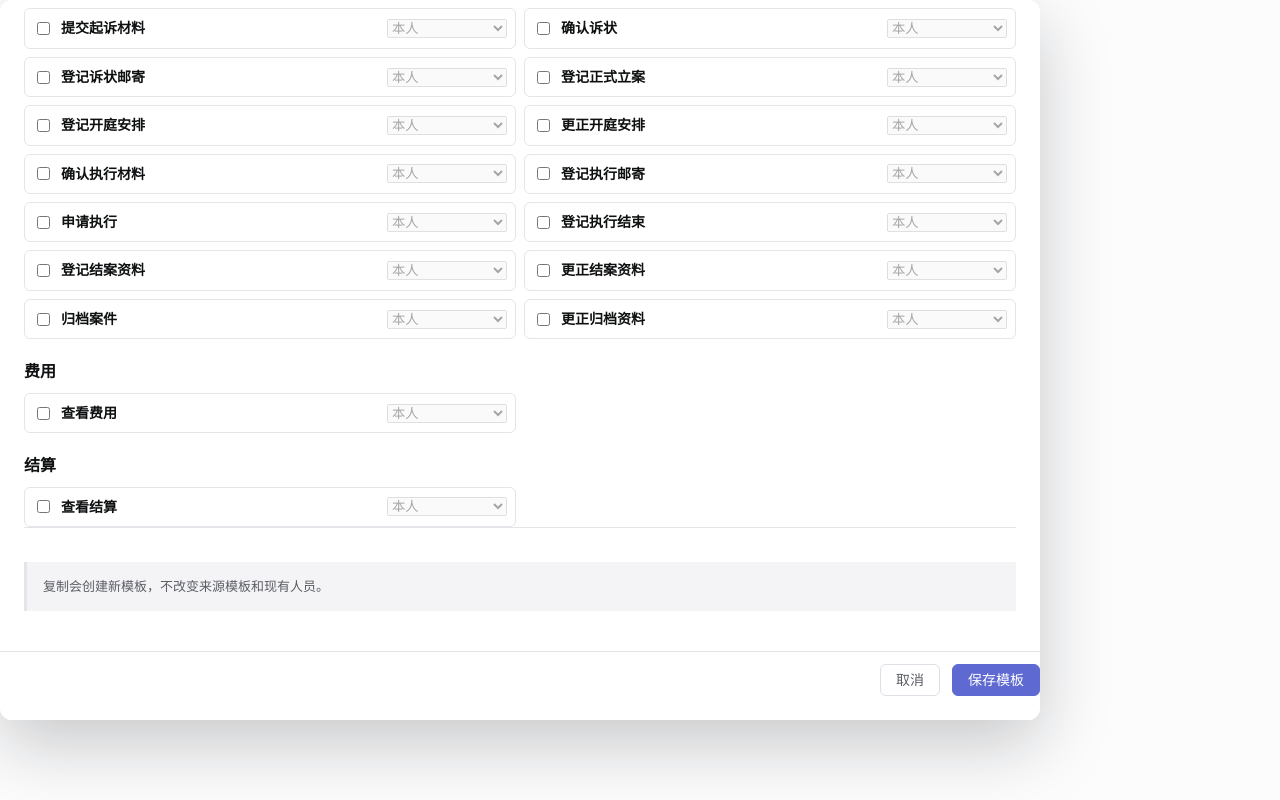
RoleTemplateEditor › adds only department customer read and admission grants to the current selection
(page scrolled)
Step 1. Click the checkbox with test id "grant-FEE_READ" → [44, 413], box [37,406,50,420]
(page scrolled)
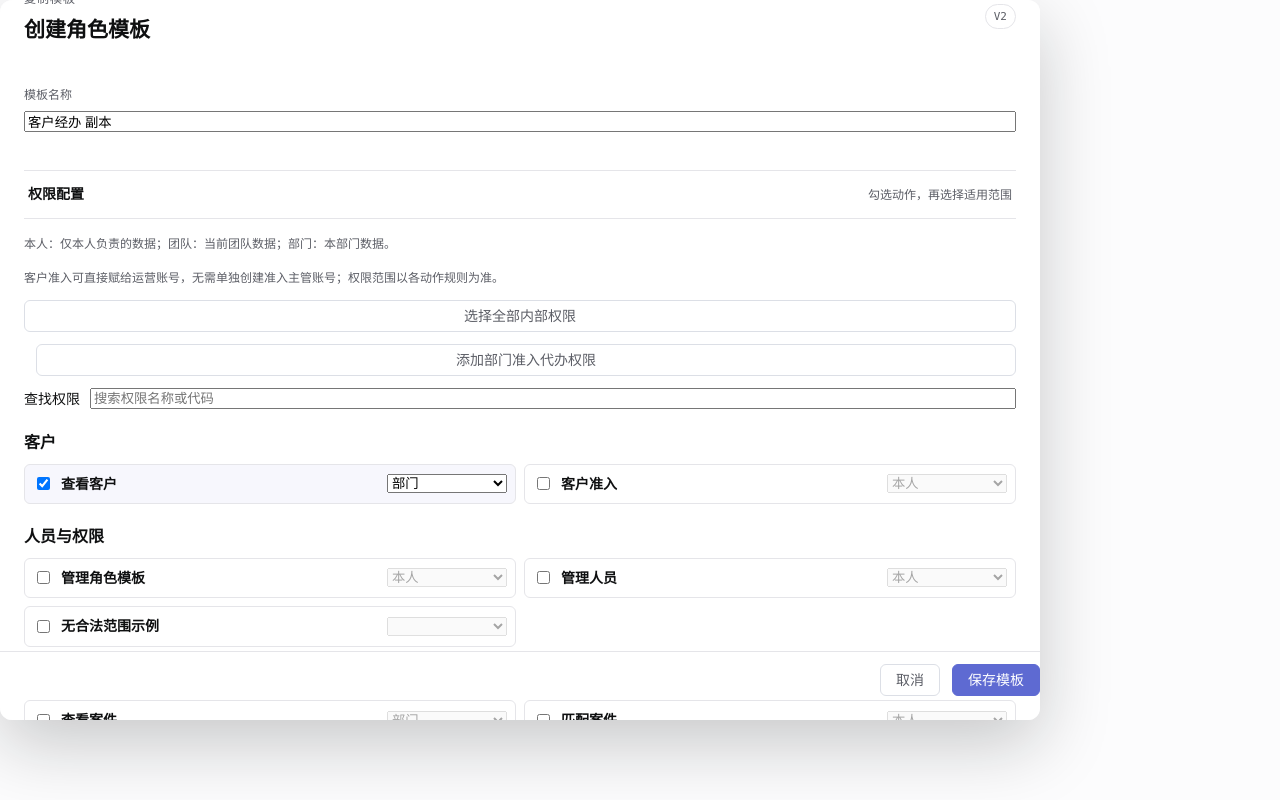
Step 2. Click the button with test id "add-department-admission-grants" → [526, 360], box [36,344,1016,376]
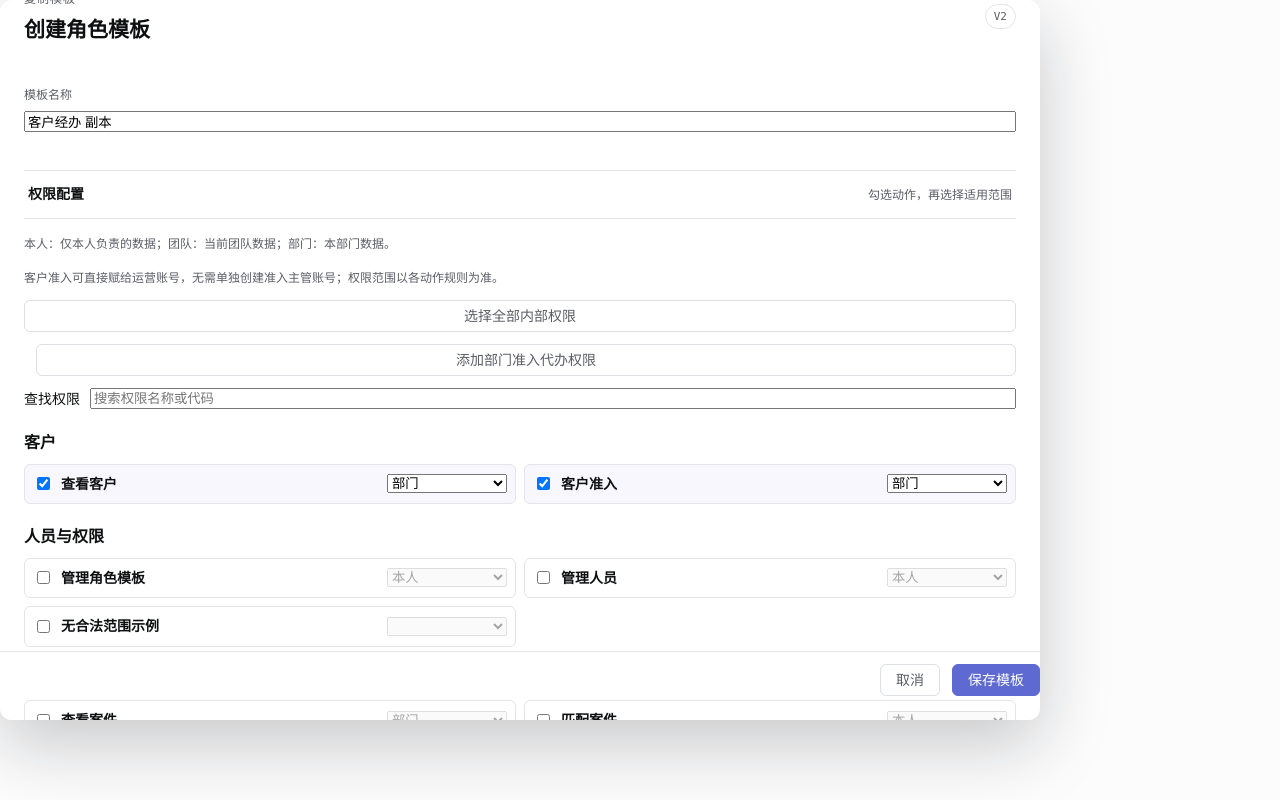
Now the checkbox with test id "grant-CUSTOMER_READ" is checked, box [37,477,50,490]
Now the dropdown with test id "scope-CUSTOMER_READ" shows "部门", box [387,474,507,493]
Now the checkbox with test id "grant-CUSTOMER_ADMIT" is checked, box [537,477,550,490]
